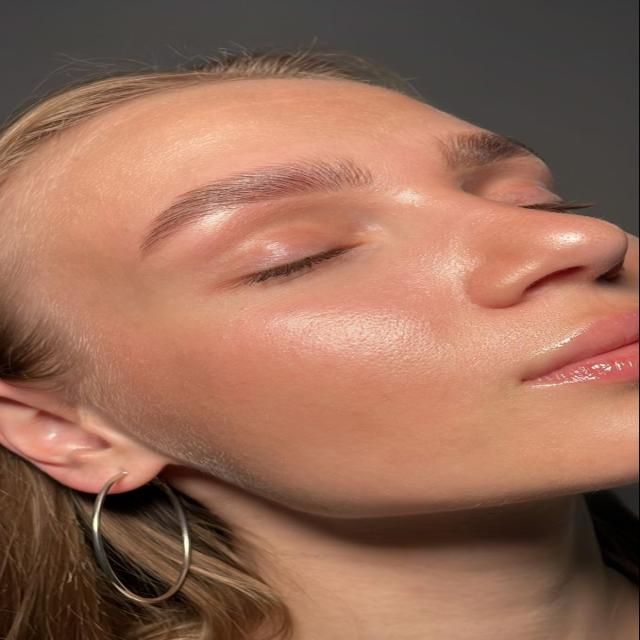Oily-Skin: (177, 296, 485, 440), (375, 201, 634, 272), (517, 384, 640, 478), (105, 120, 342, 168), (174, 210, 257, 247)
